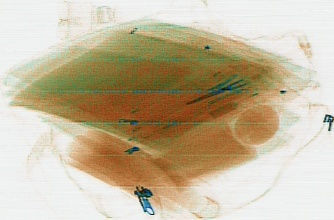scissors: (183, 77, 246, 104)
